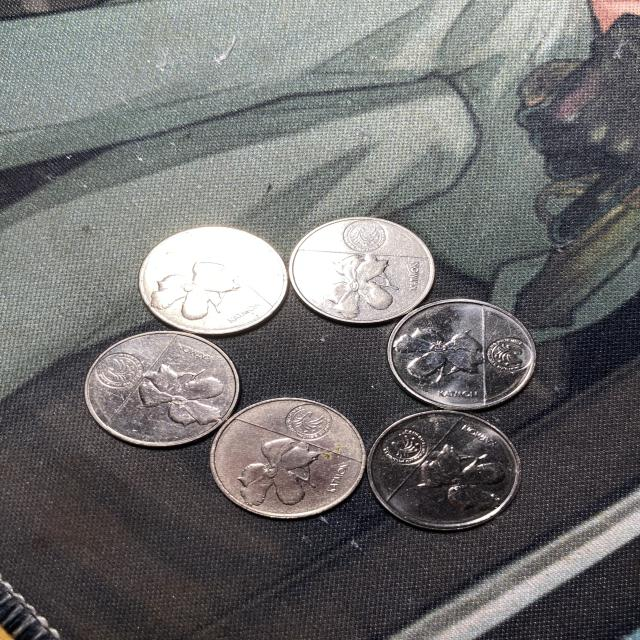25Cent_New_Back: (228, 438, 356, 518), (402, 436, 516, 520), (135, 356, 234, 449), (311, 250, 412, 322), (388, 314, 489, 378)
